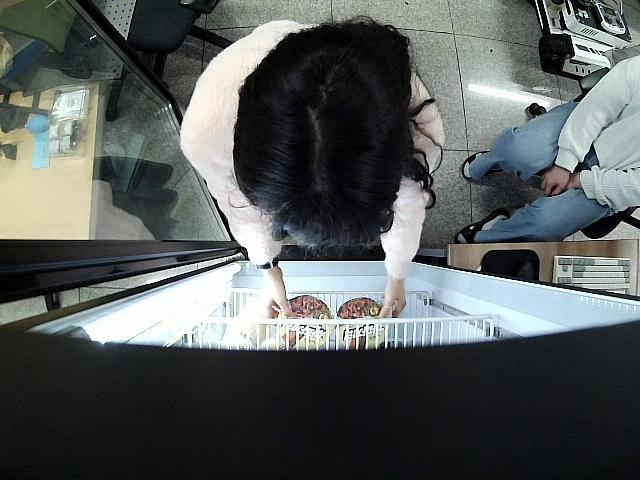03_chapagetti_L: (278, 294, 334, 347), (336, 296, 390, 348)
